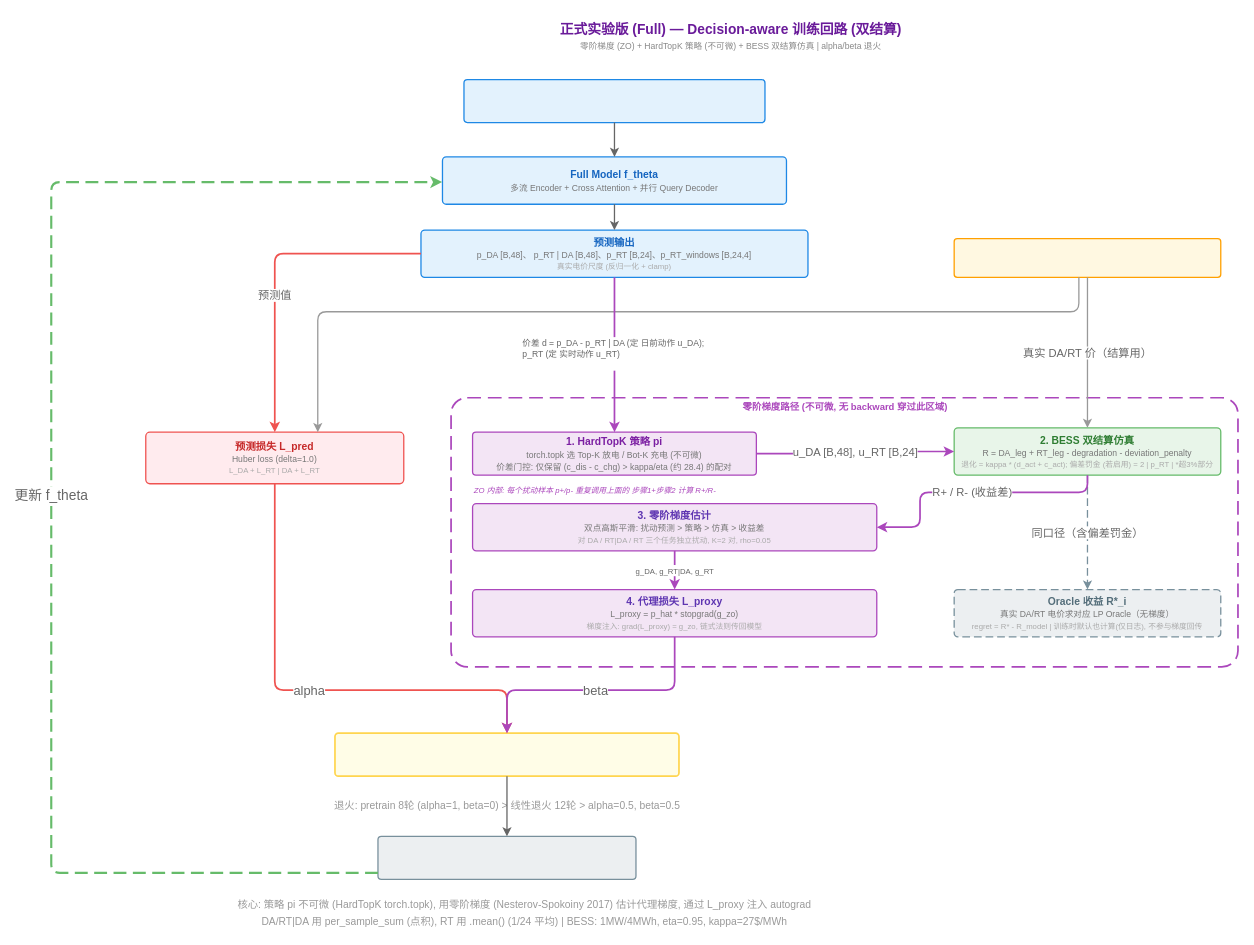
Image size: 1254x945. Some labels were removed from this diagram. Here are the shapes that lost their labels. From the top down, the box of each, then its label:
(463, 79, 765, 123): 多模态输入 X_i 历史电价/负荷 + 系统 + 日历 (5流)
(953, 238, 1221, 278): 真实电价 targets price_da_tgt, price_rt_tgt
(334, 732, 679, 777): Total Loss L = alpha * L_pred / pred_scale + beta * L_proxy / proxy_scale
(377, 835, 636, 880): 标准 autograd 回传 AdamW + grad_clip + AMP autocast
